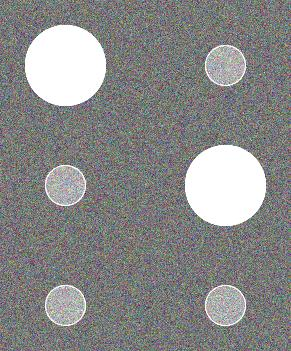E: (19, 19, 272, 339)
